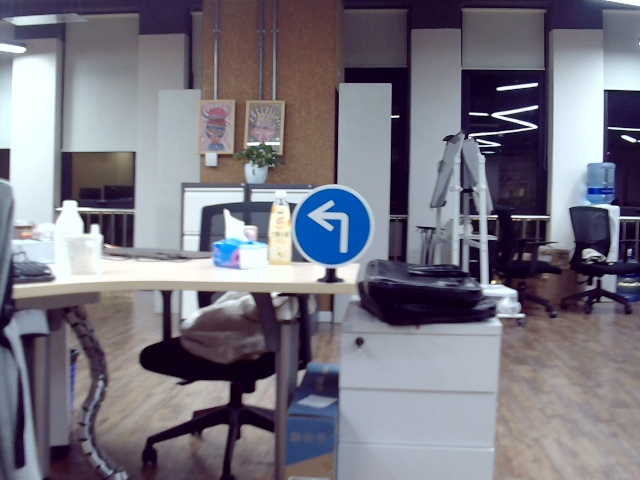turn_left: (306, 199, 356, 256)
